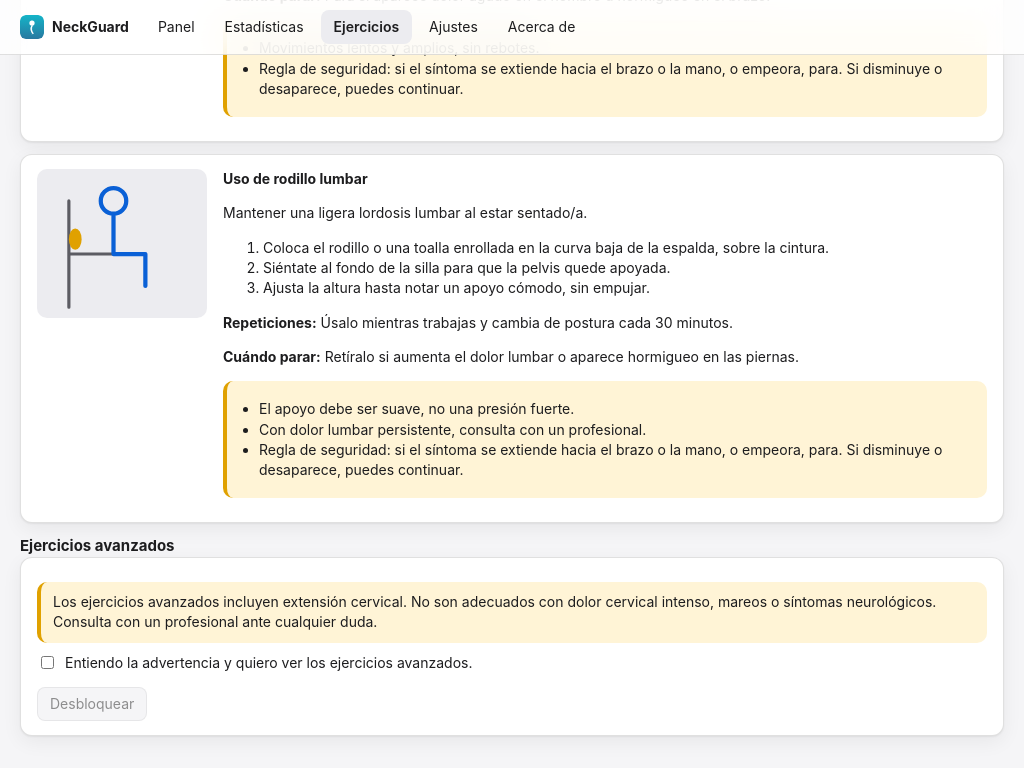
Test: UI: onboarding y bloqueo de ejercicios › tras confirmar se ven los básicos; los avanzados requieren aceptar la advertencia
The image size is (1024, 768).
(page scrolled)
Expected: the text "Retracción con extensión" is not shown
Expected: the button "Desbloquear" is disabled, [37, 687, 147, 721]
Click the checkbox.
click(48, 662)  # box [41, 656, 54, 669]
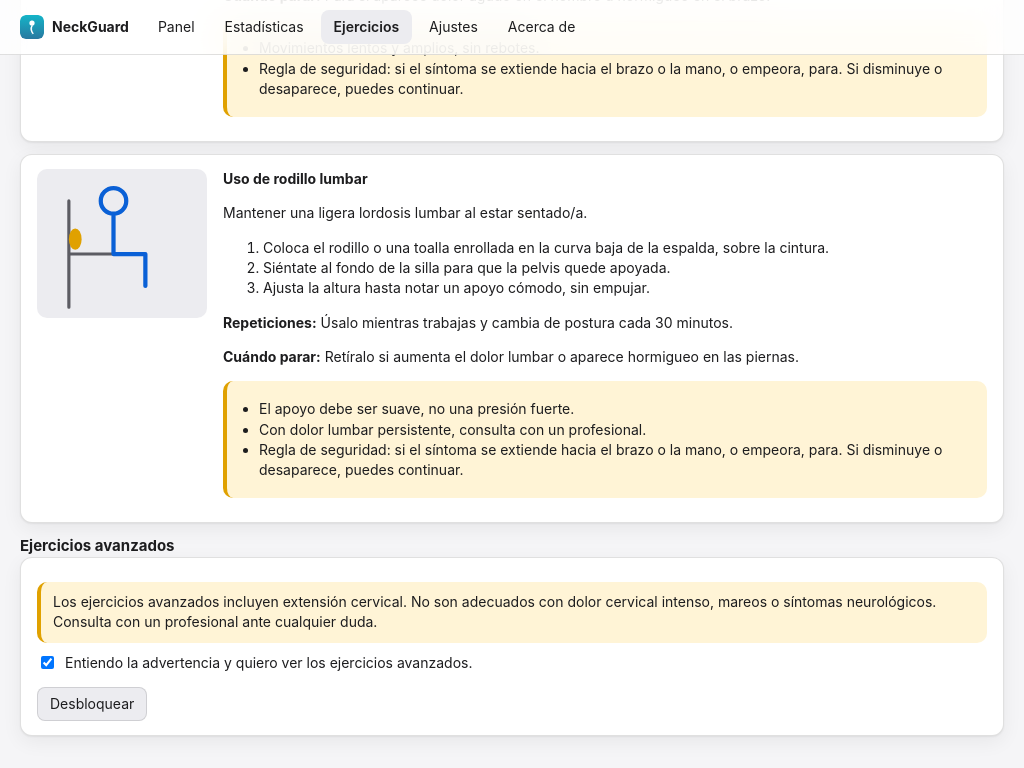
Click the button "Desbloquear".
click(92, 704)  # box [37, 687, 147, 721]
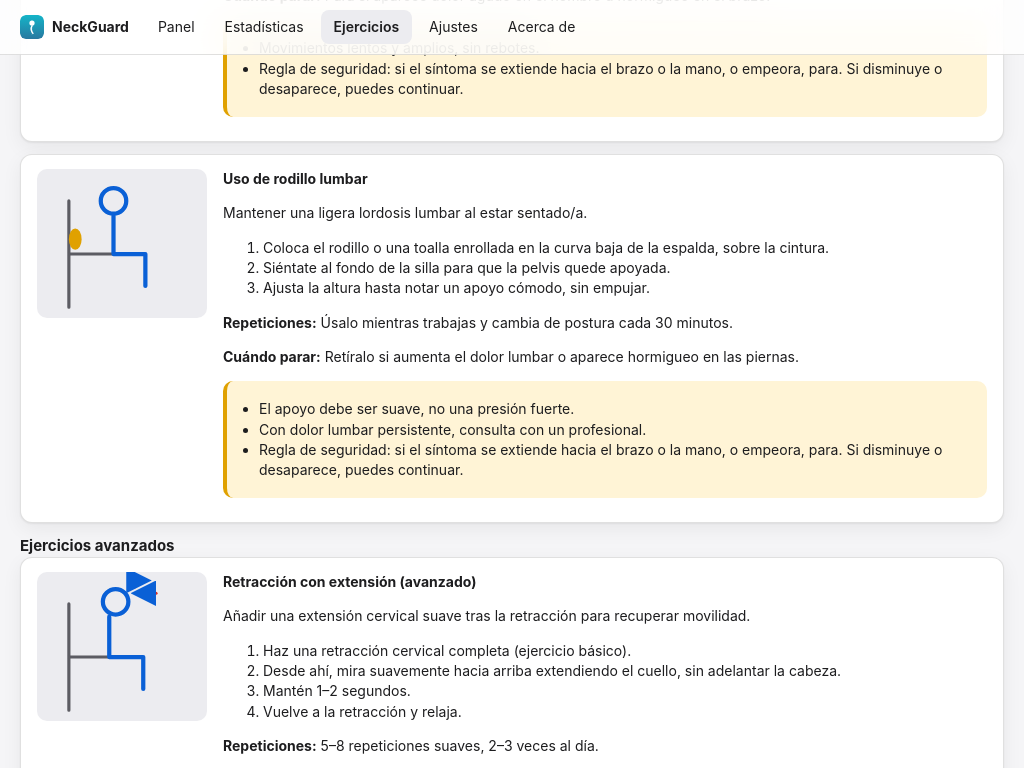
Expected: the text "Regla de seguridad" is shown, [259, 60, 942, 97]
Expected: the text "Retracción con extensión" is shown, [223, 573, 476, 590]
